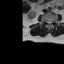CCS_stenosis: (48, 20, 50, 25)
LFS_normal: (51, 19, 53, 23)
LLS_normal: (50, 20, 51, 24)
RFS_normal: (45, 19, 47, 24)
RLS_normal: (47, 19, 48, 24)
